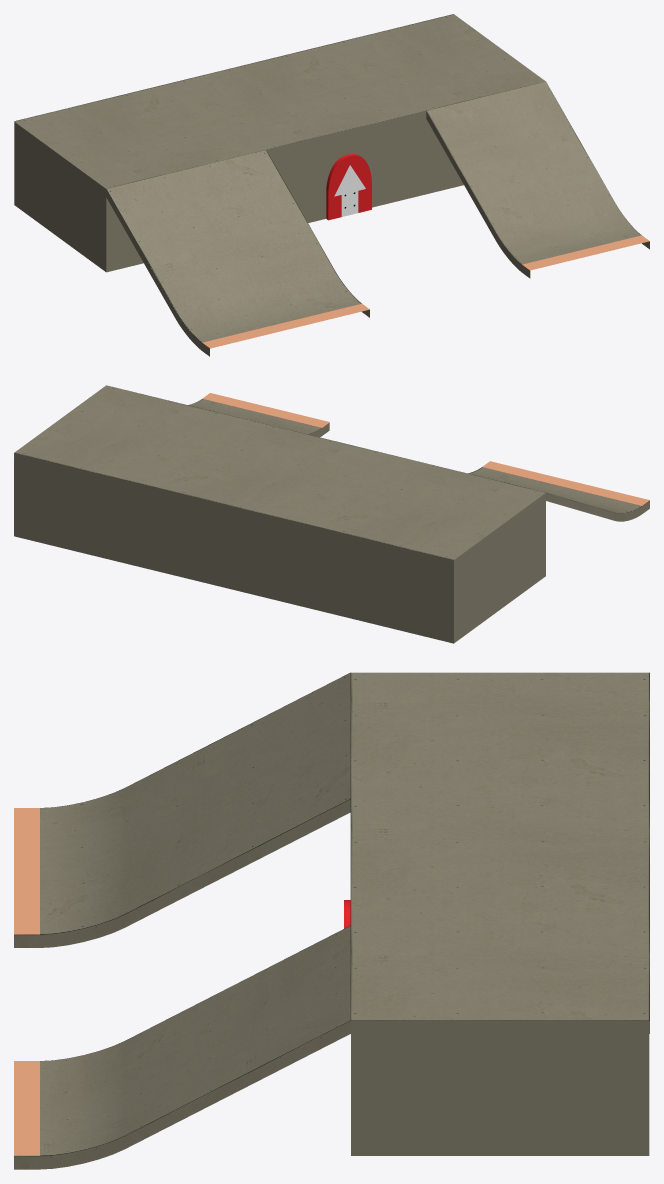
Rendered from banks-gap.glb.
3 views of the same model, one above another, from view 1: azimuth 30°, elevation 25°; view 2: azimuth 150°, elevation 25°; view 3: azimuth 270°, elevation 25° (orthographic). The views are drawn at different scales.
Parts seen in each view (by area): view 1: BanksGapWood, RETTA, BanksGapMetal; view 2: BanksGapWood, BanksGapMetal; view 3: BanksGapWood, BanksGapMetal.
Boxes of the visible parts, x1,y1,x2,y2 form: BanksGapWood: (14,14,649,356); RETTA: (326,154,371,220); BanksGapMetal: (202,235,649,348); BanksGapWood: (14,385,649,643); BanksGapMetal: (202,393,649,505); BanksGapWood: (14,672,649,1169); BanksGapMetal: (14,808,39,1155).
Size of the model in its own units: 108 by 21.55 by 83.26.
5 materials, 2 textured.
